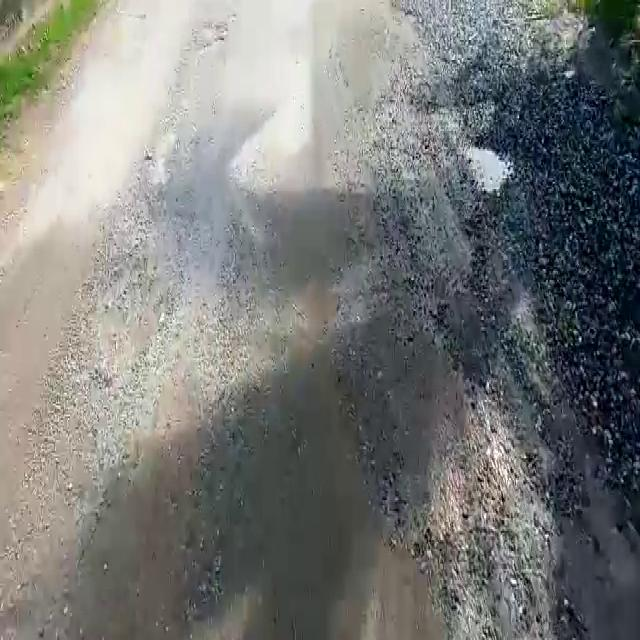Pothole: (463, 140, 518, 194)
